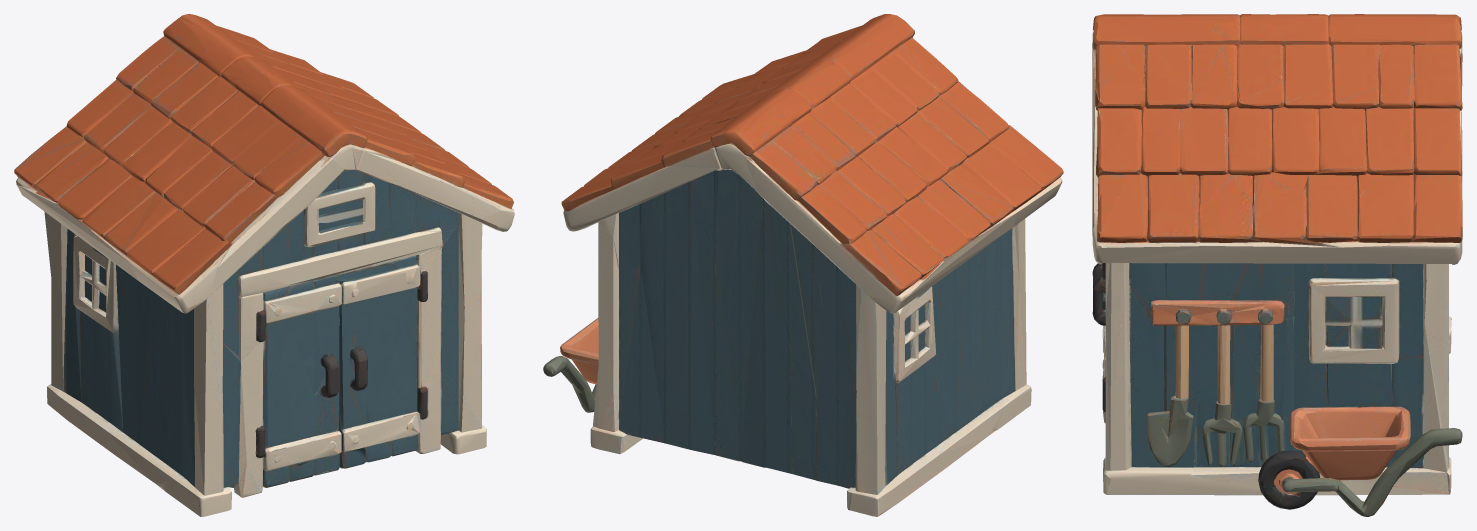
File: toolShed.glb
The picture shows the model from 3 angles, left to right: view 1: azimuth 30°, elevation 25°; view 2: azimuth 150°, elevation 25°; view 3: azimuth 270°, elevation 25°; orthographic projection. The views are drawn at different scales.
Parts seen in each view (by area): view 1: Mesh_0; view 2: Mesh_0; view 3: Mesh_0.
Part boxes in pixels (x1,y1,x2,y2): Mesh_0: (14, 14, 514, 516); Mesh_0: (543, 14, 1063, 516); Mesh_0: (1092, 14, 1462, 516).
Size of the model in its own units: 3.2 by 2.93 by 2.46.
Materials: 1 (1 with a texture image).
